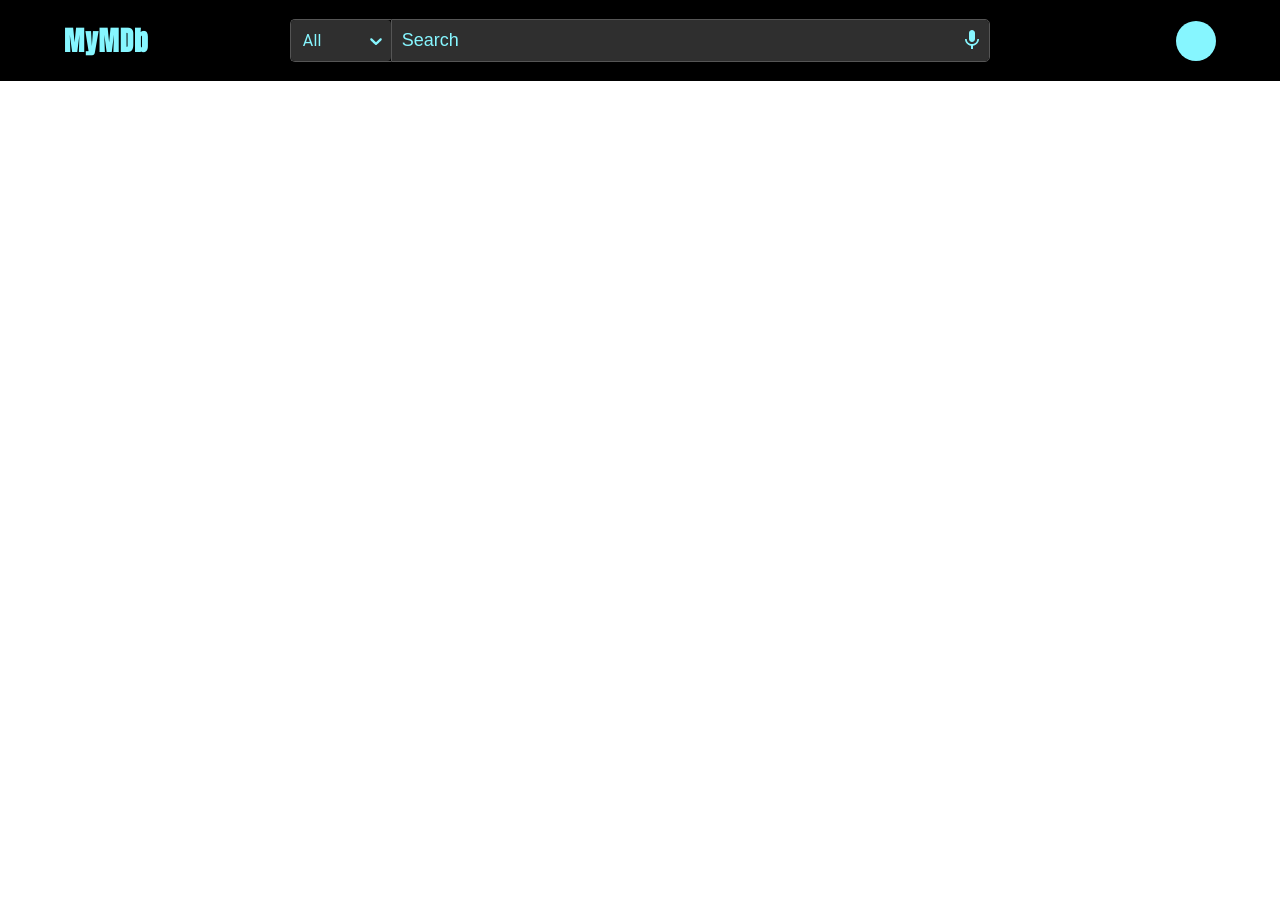
Header component › Component rendering › Should allow the user to toggle the navigation
Click the button with test id "login" at (1196, 40), box [1176, 20, 1216, 60]
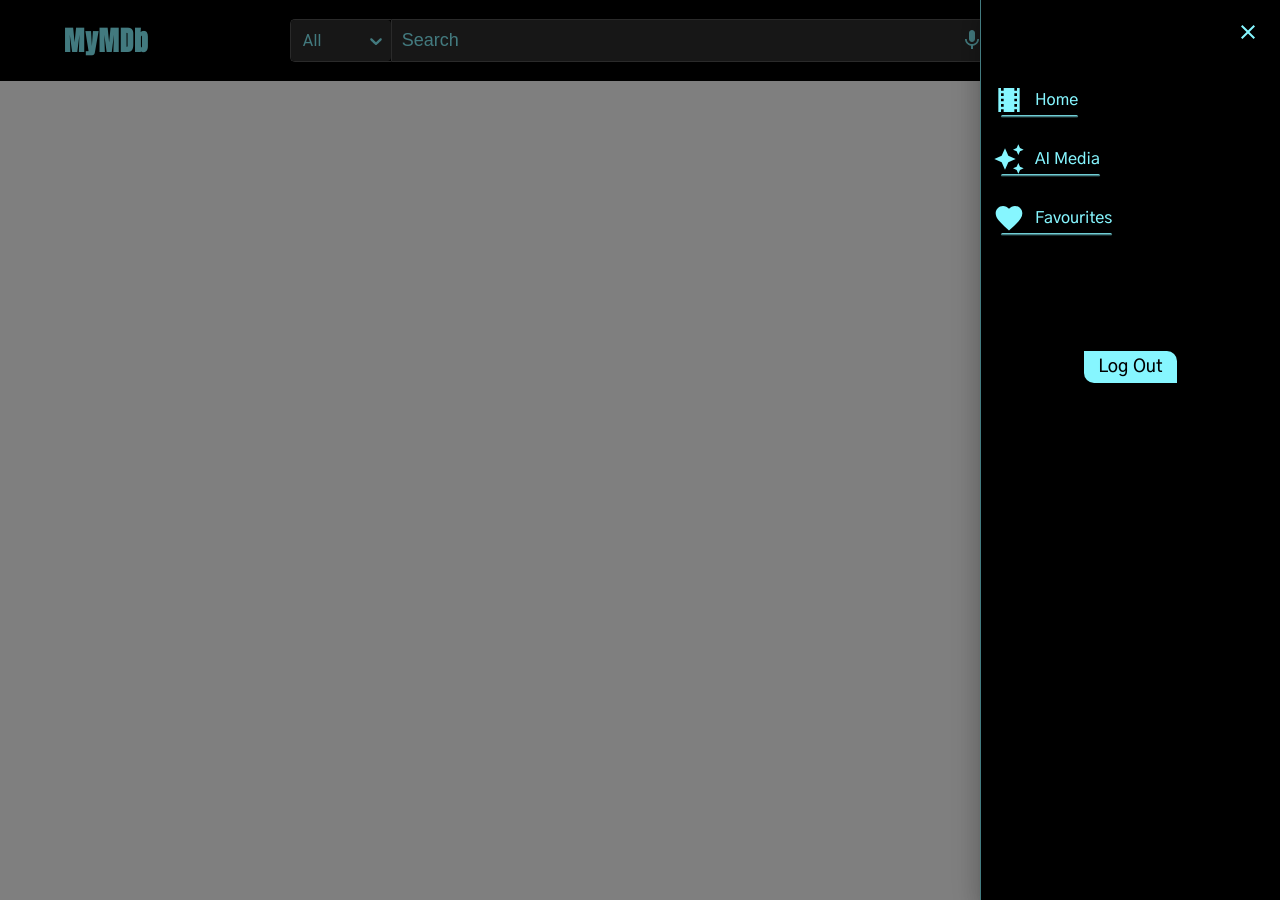
Expected: the element with test id "navigation" is shown
